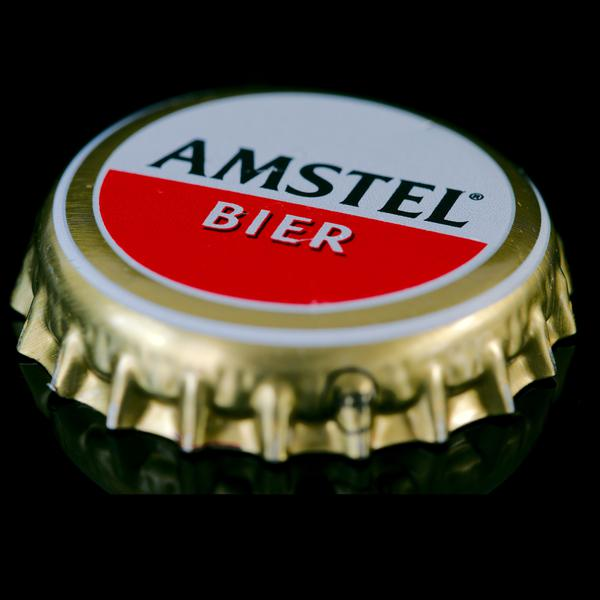amstel: (6, 78, 580, 470)
